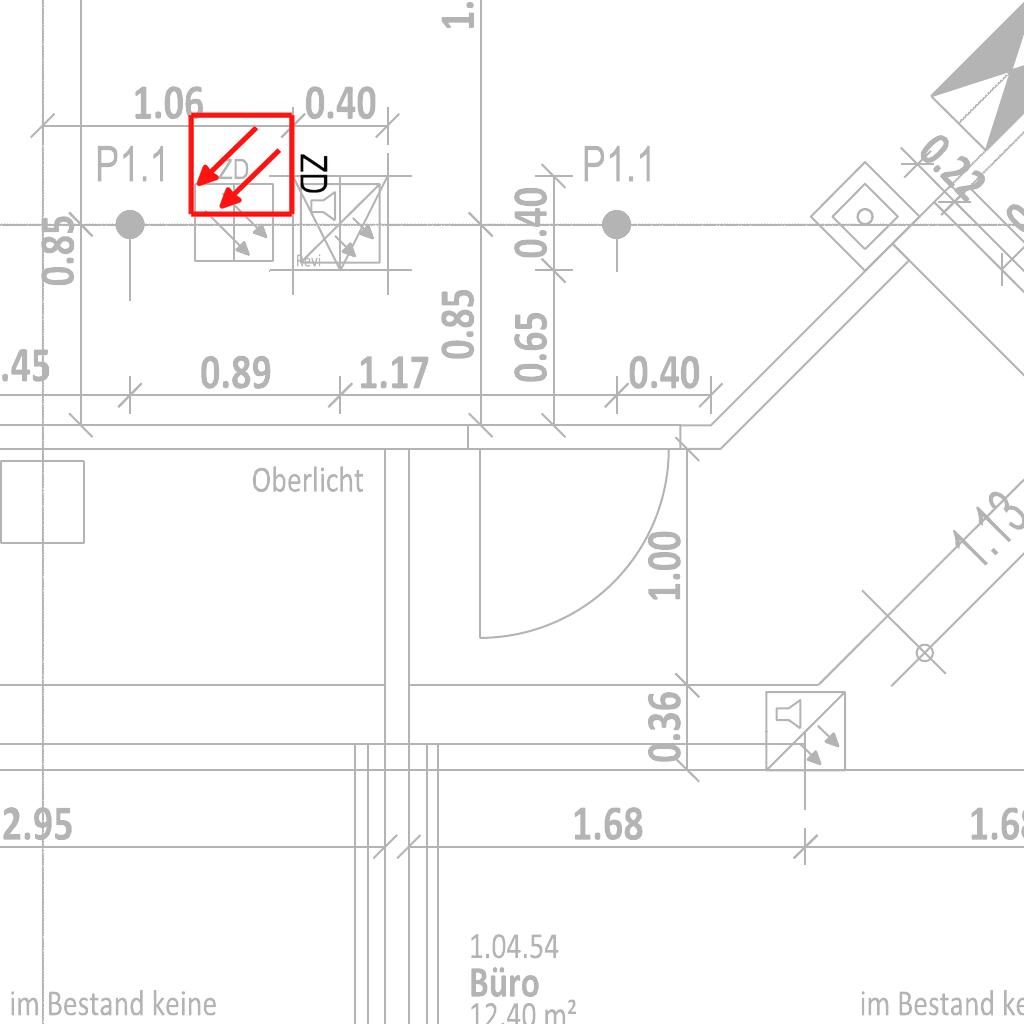ZD_Melder_in_Zwischendecke_mit_Revisionsoeffnung_mind_40_x_40_cm: (186, 106, 335, 220)
